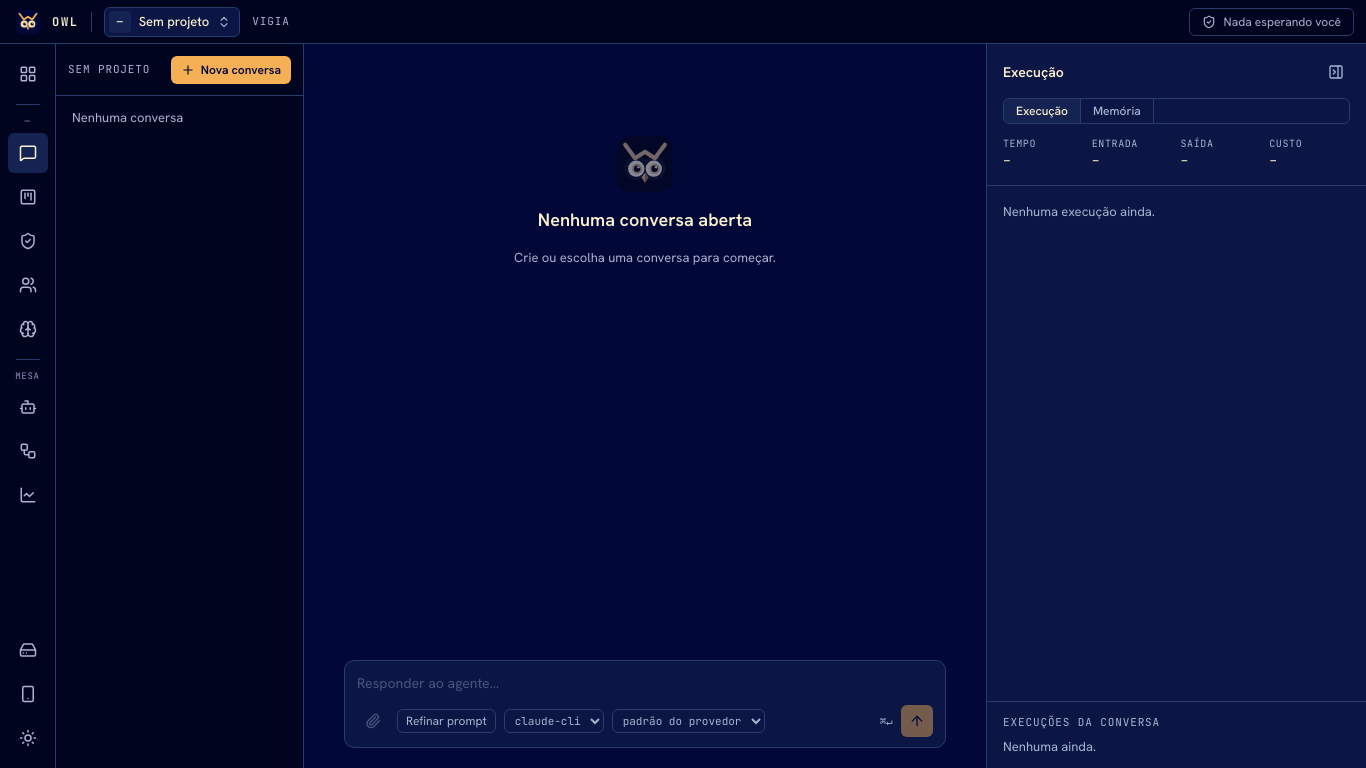
Test: agent library › lists the agents with their origin, provider and tools
The image size is (1366, 768).
What coordinates should you click on to do the following:
click the button named "Agentes"
I would click on:
 (28, 407)
Its box is [8,387,48,427].
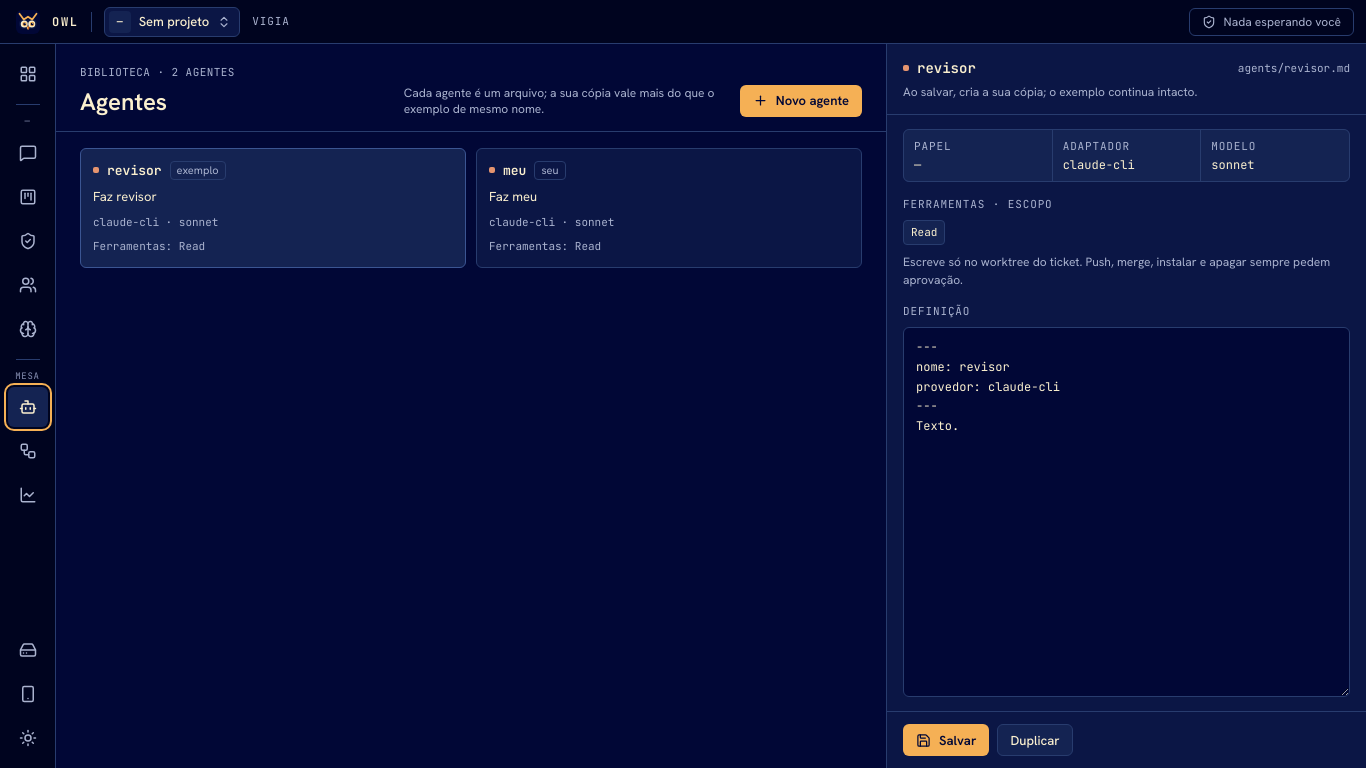
Result: the element named "Biblioteca de agentes" is shown
Result: the text "exemplo" is shown at [170,161,226,180]
Result: the 1st text "claude-cli · sonnet" is shown at [93,214,218,230]
